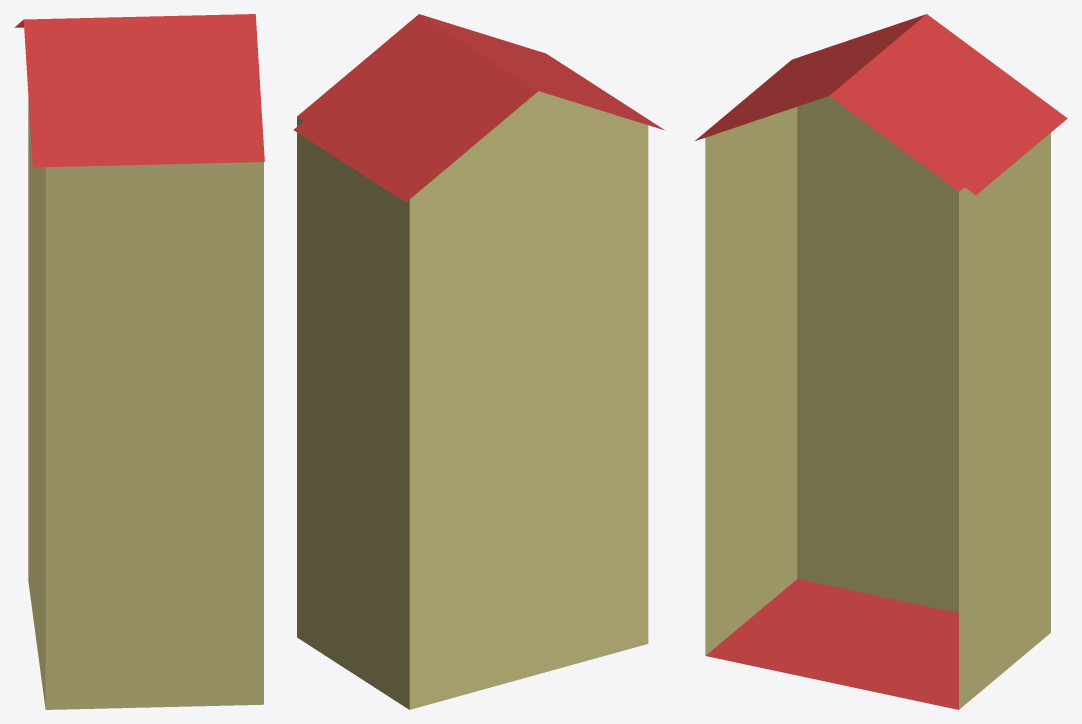
3 views of the same model, side by side, from view 1: azimuth 30°, elevation 25°; view 2: azimuth 150°, elevation 25°; view 3: azimuth 270°, elevation 25° (orthographic). The views are drawn at different scales.
Bounding box in the file's own units: 6.47 × 7.39 × 12.79.
